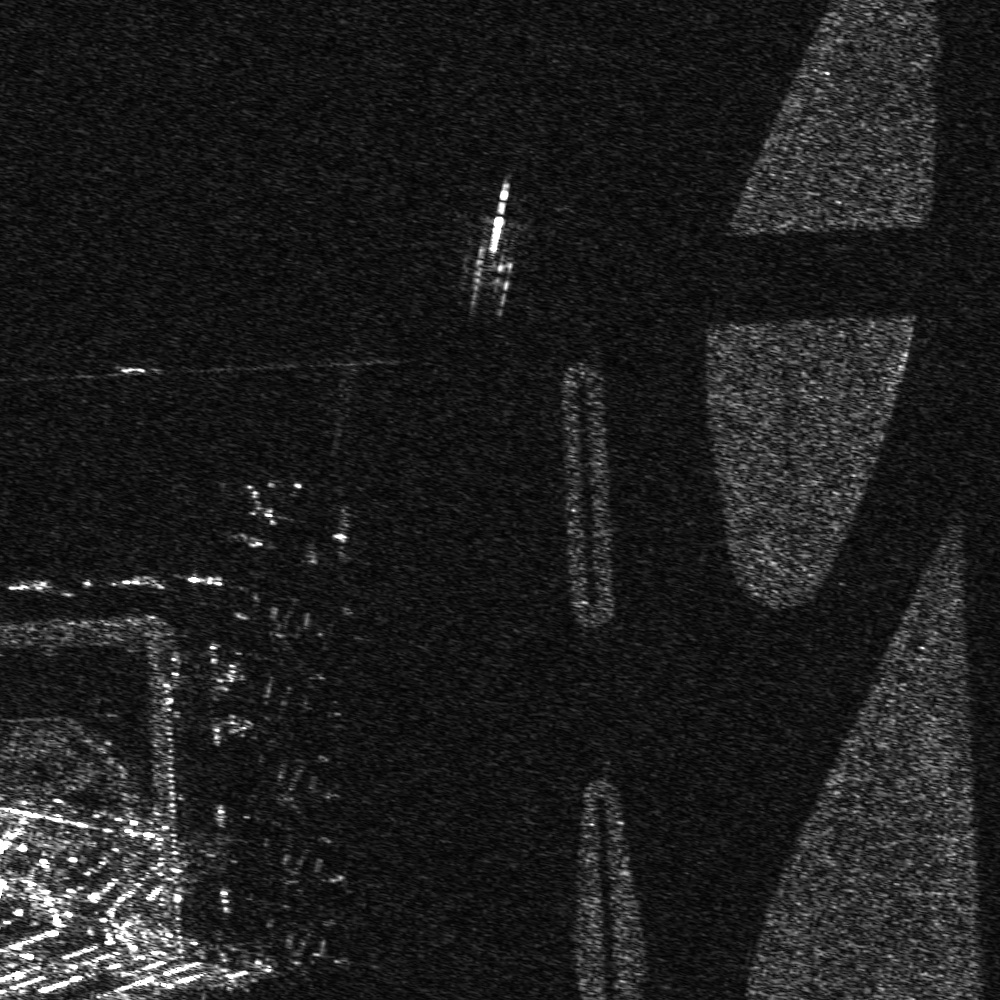A220: (248, 762, 349, 835), (262, 590, 344, 679), (275, 848, 358, 926), (286, 936, 383, 999)
A320/321: (220, 467, 310, 533)
